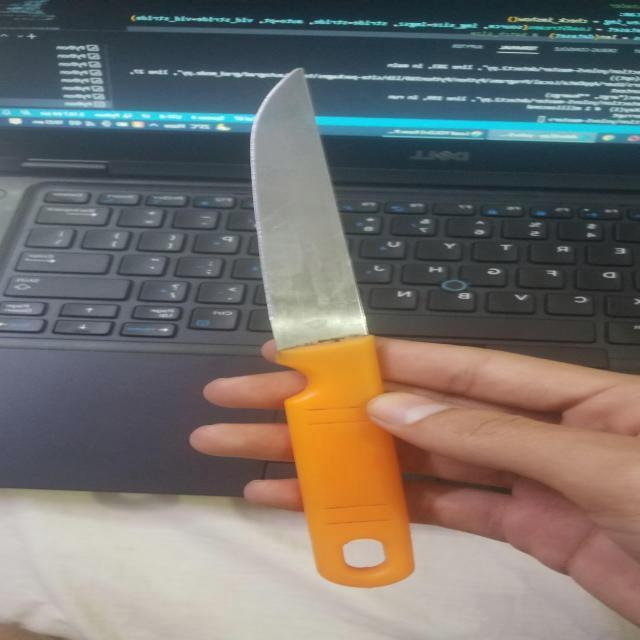Knife: (251, 69, 414, 587)
